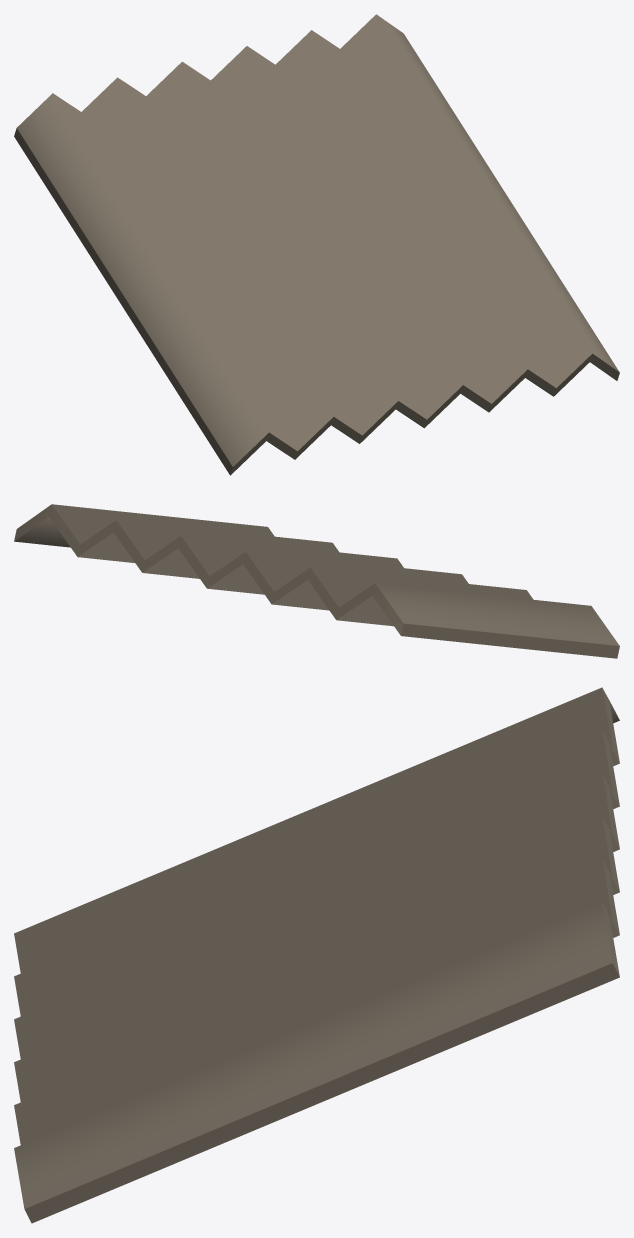
The model's file is taule 2.fbx.
3 views of the same model, one above another, from view 1: azimuth 30°, elevation 25°; view 2: azimuth 150°, elevation 25°; view 3: azimuth 270°, elevation 25° (orthographic). The views are drawn at different scales.
Visible parts, largest first — view 1: taule_2; view 2: taule_2; view 3: taule_2.
Boxes of the visible parts, x1,y1,x2,y2 form: taule_2: (14,14,619,475); taule_2: (14,504,619,658); taule_2: (14,687,619,1223).
Size of the model in its own units: 1.57 by 0.859 by 1.57.
